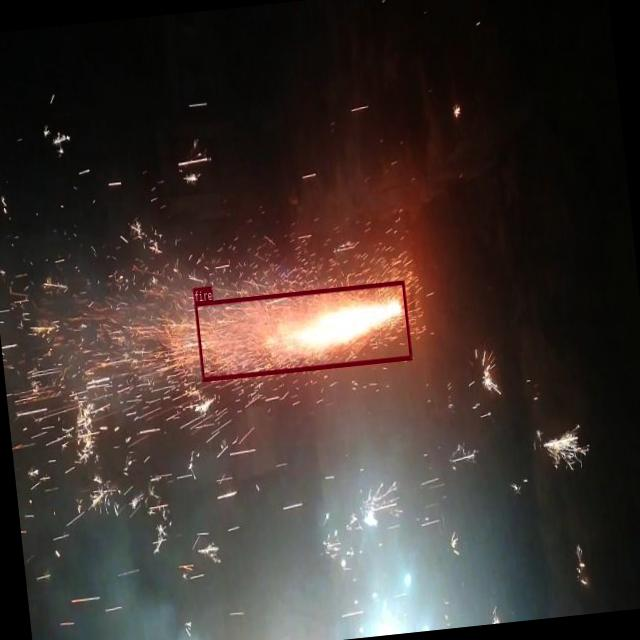fire: (194, 280, 412, 380)
